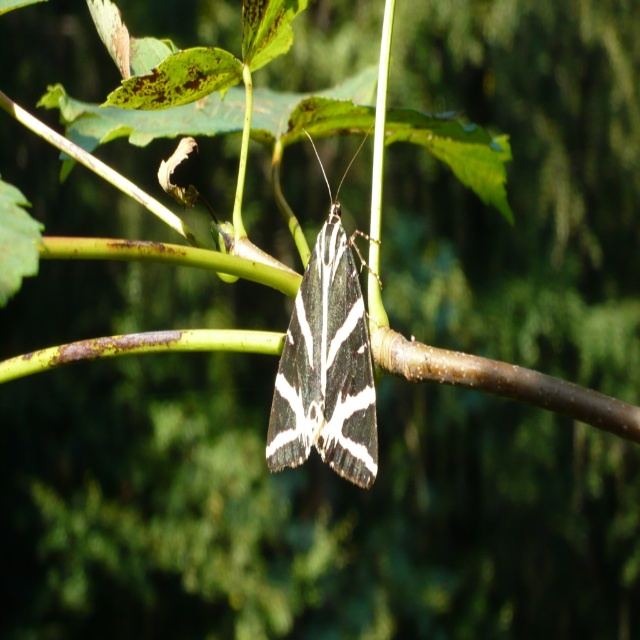Butterfly: (267, 127, 383, 484)
